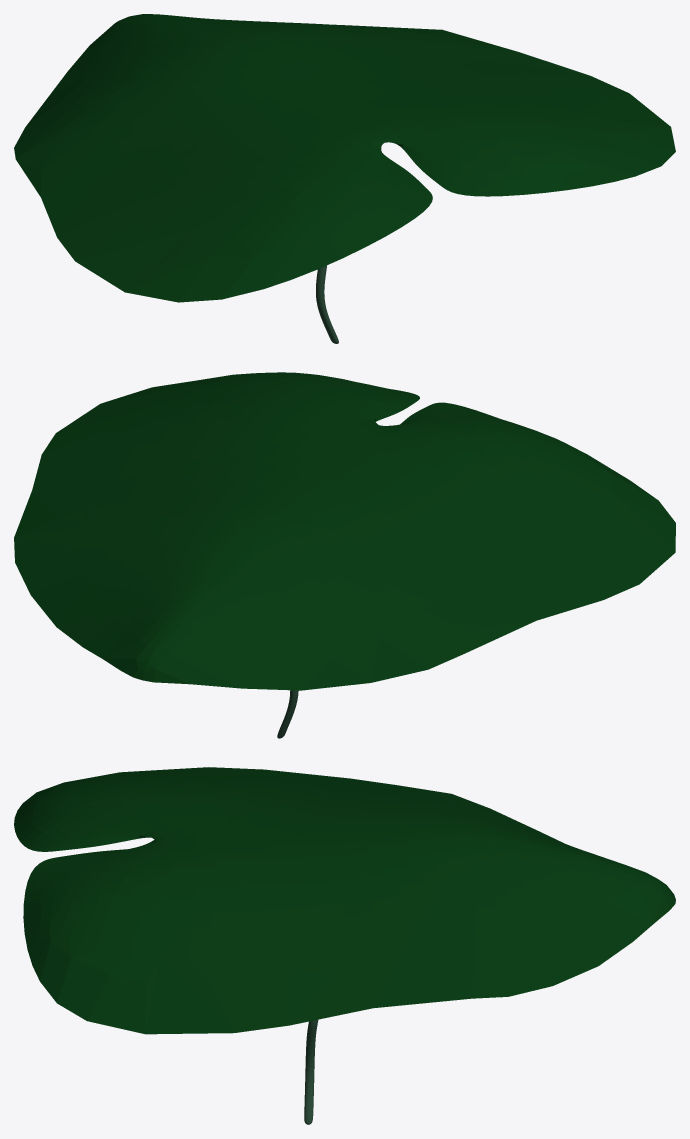
The model's file is Jump Leaf.fbx.
3 views of the same model, one above another, from view 1: azimuth 30°, elevation 25°; view 2: azimuth 150°, elevation 25°; view 3: azimuth 270°, elevation 25° (orthographic). The views are drawn at different scales.
Parts seen in each view (by area): view 1: Circle.001, Cylinder.001; view 2: Circle.001; view 3: Circle.001, Cylinder.001.
Boxes of the visible parts, bbox=[...] form: Circle.001: bbox=[14, 14, 675, 302]; Cylinder.001: bbox=[316, 265, 338, 343]; Circle.001: bbox=[14, 372, 675, 690]; Circle.001: bbox=[14, 767, 675, 1034]; Cylinder.001: bbox=[304, 1019, 318, 1124].
Size of the model in its own units: 689 by 312 by 671.
